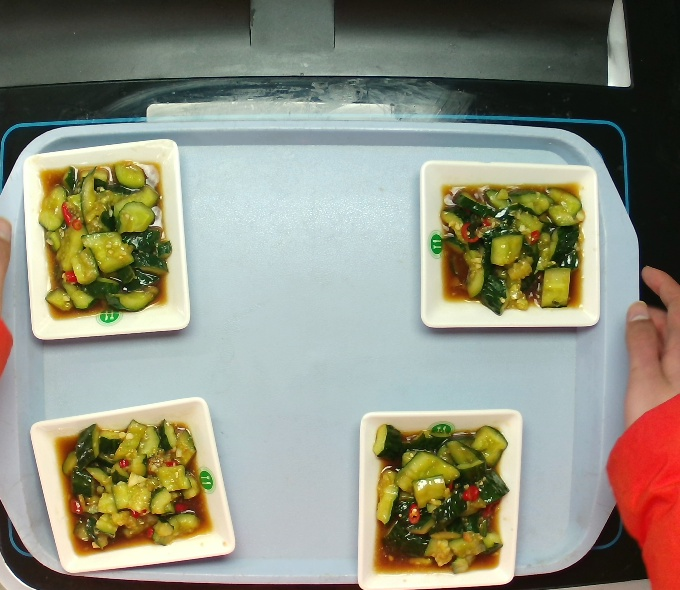wcq-LiangBanHuangGua: (26, 153, 171, 321), (434, 172, 589, 312), (369, 419, 509, 573), (53, 426, 212, 549)
